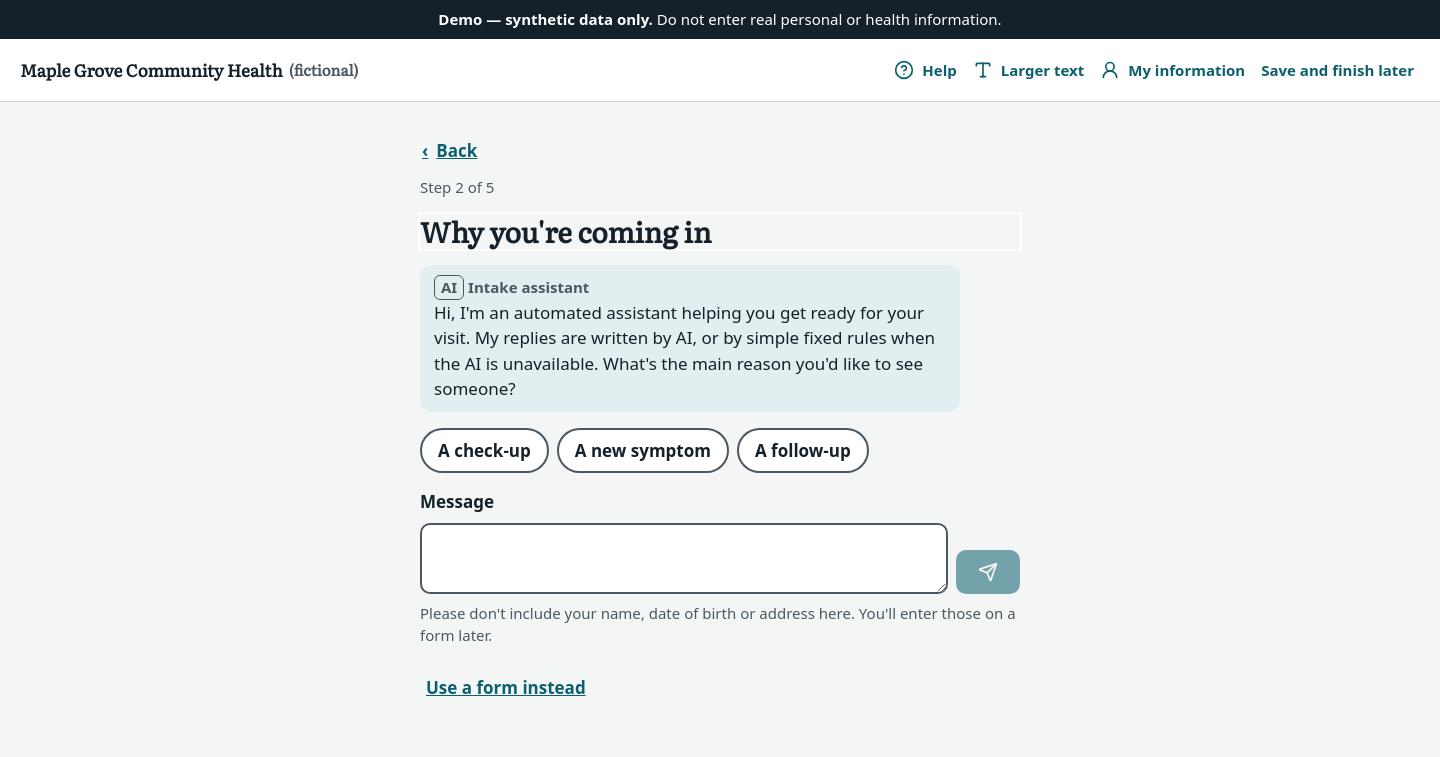
Test: assistant replies are sent back with the server's signature
The image size is (1440, 757).
In the text box labelled "Message": (684,558) [420,522,948,594], type "Knee pain"
Then press Enter
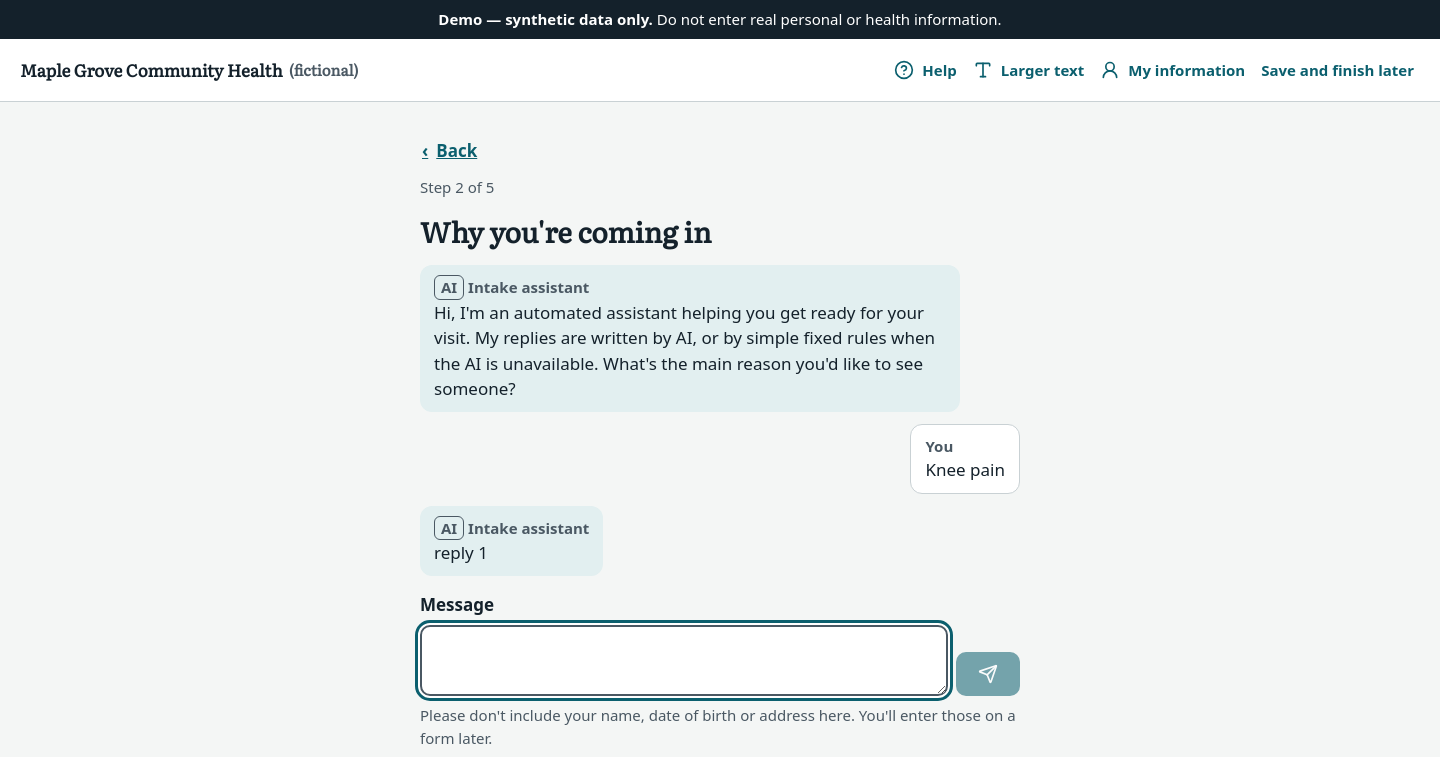
Expected: the text "reply 1" is shown, [434,541,488,564]
In the text box labelled "Message": (684,660) [420,625,948,696], type "Two weeks"
Then press Enter
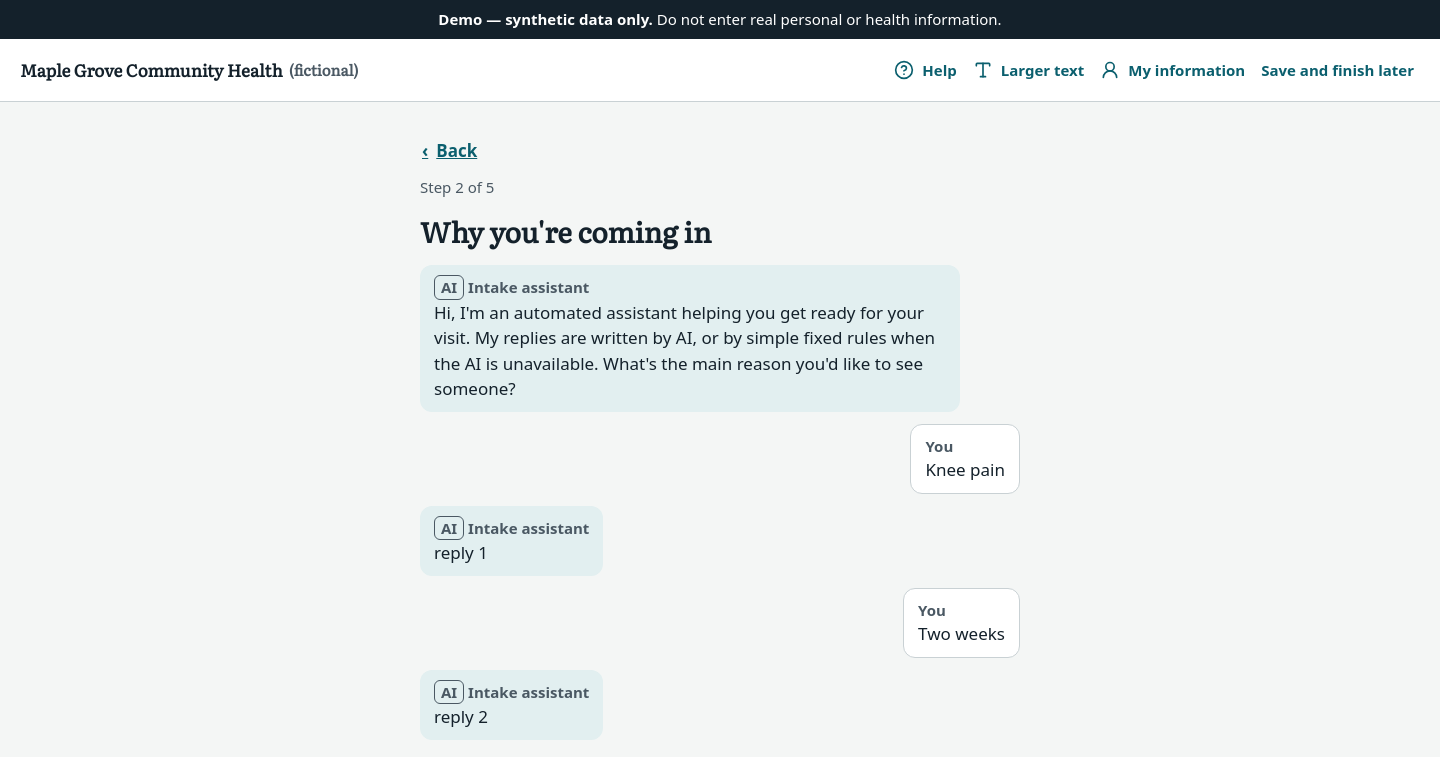
Expected: the text "reply 2" is shown, [434,705,488,728]
